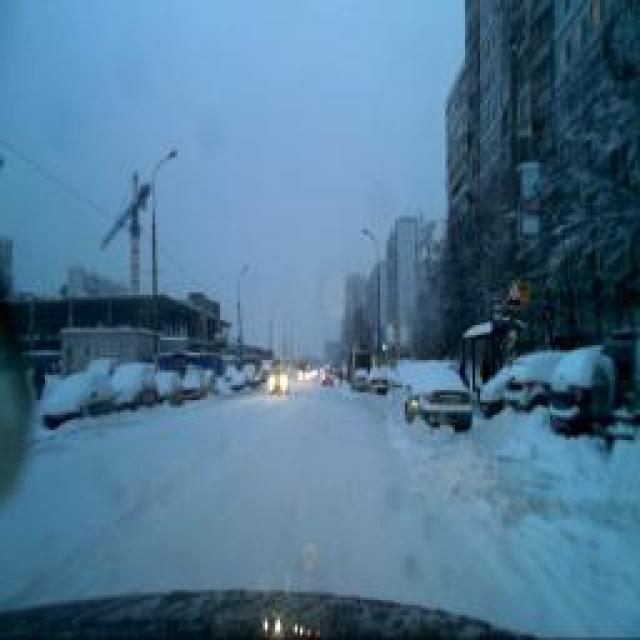sign: (504, 276, 524, 309)
